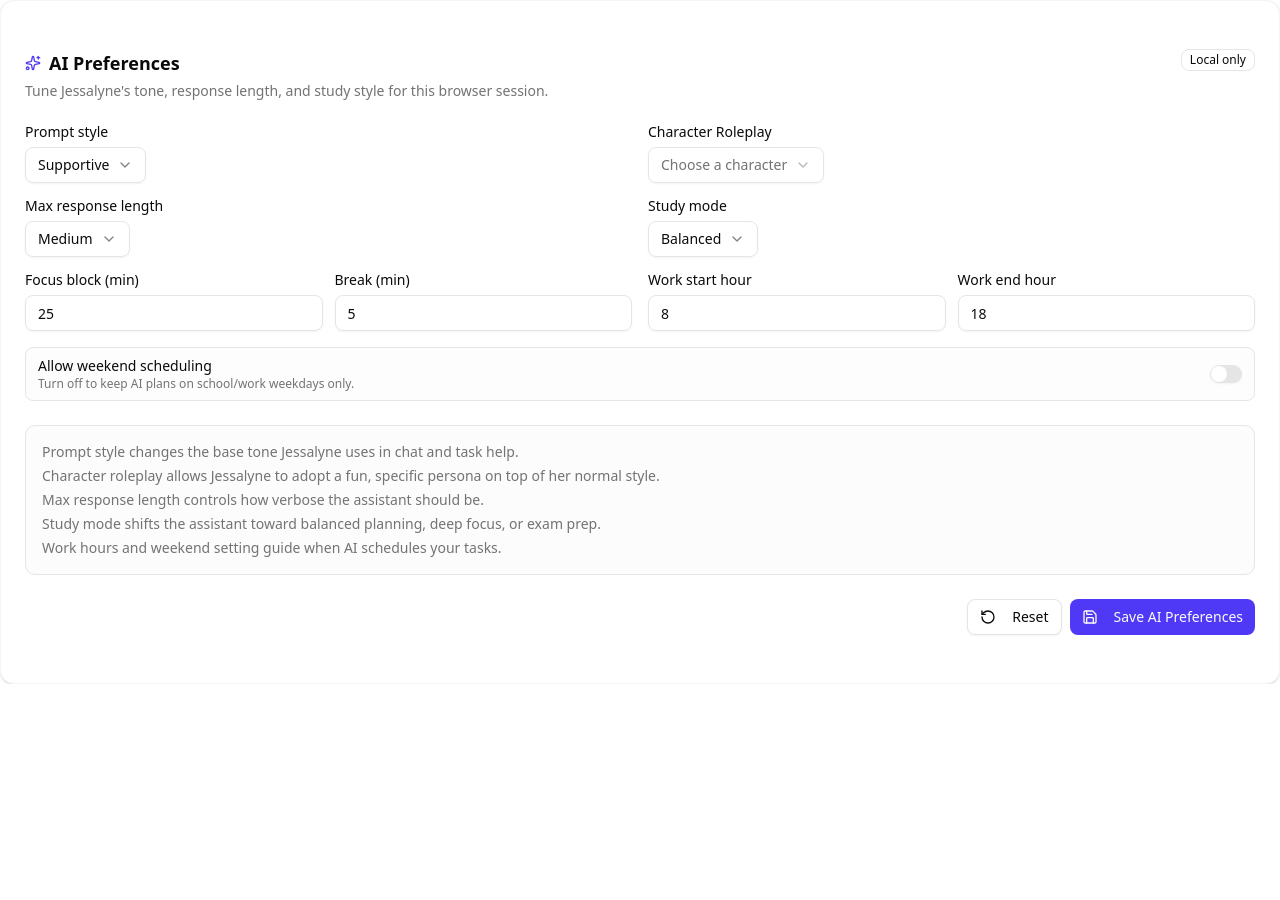
Test: AISettingsPanel Component › shows "AI preferences saved." after a successful save
Click the button "Save AI Preferences": (1162,617) x1=1070 y1=599 x2=1255 y2=635
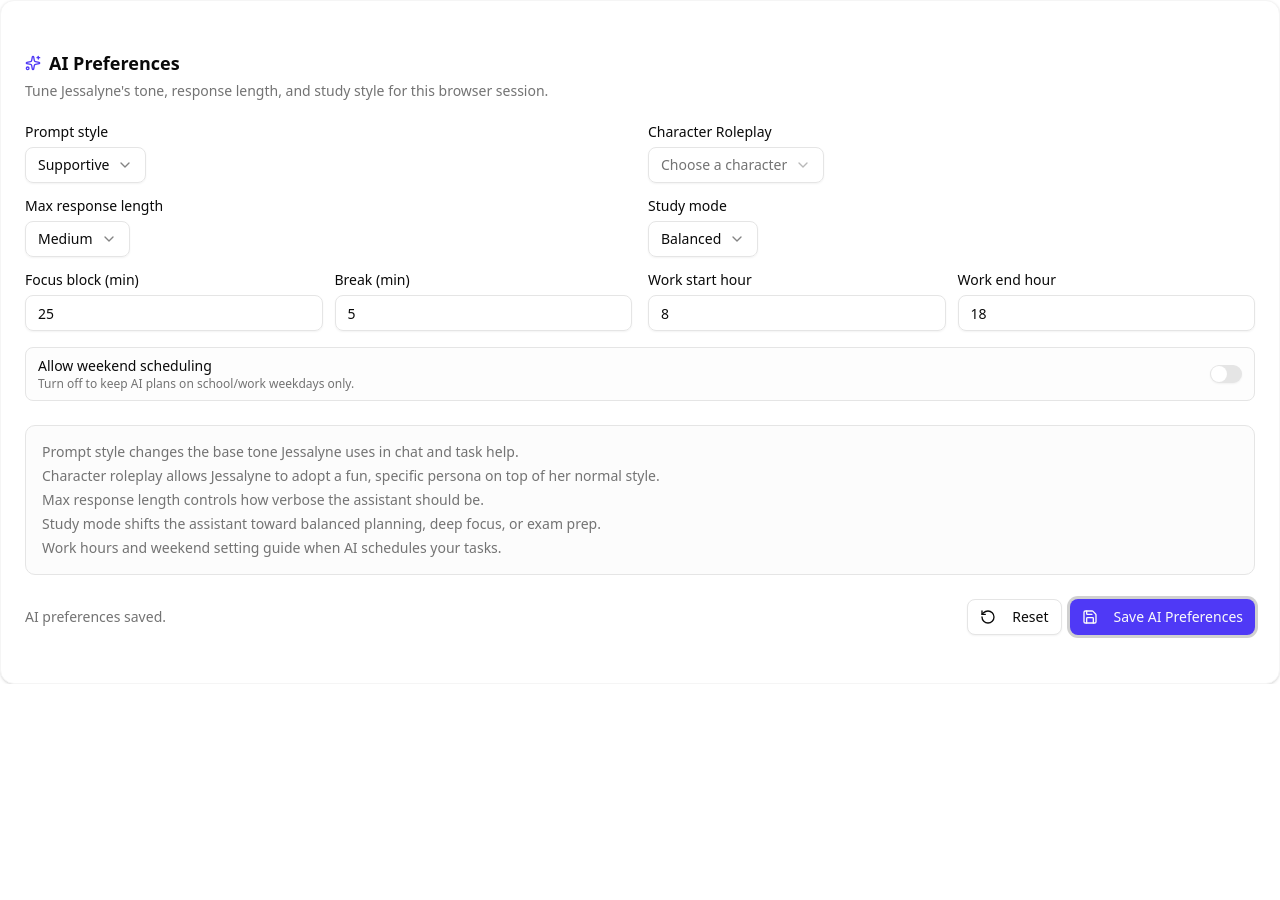
Expected: the text "AI preferences saved." is shown, x1=25 y1=607 x2=166 y2=627
